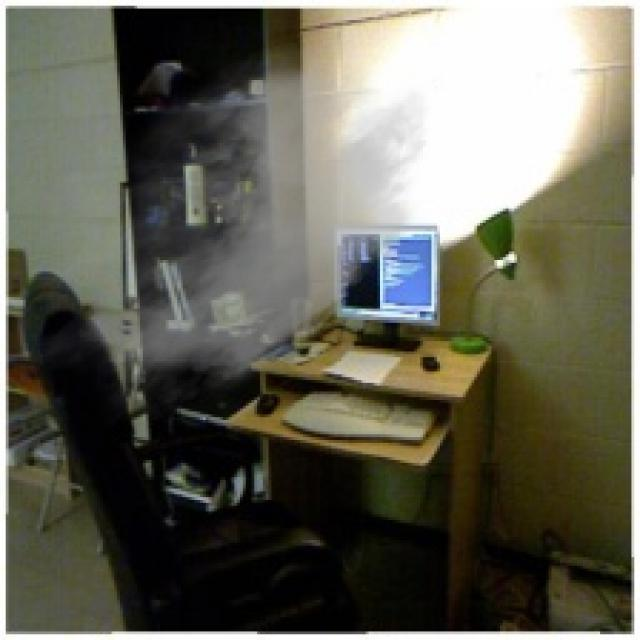Smoke: (20, 26, 443, 428)
